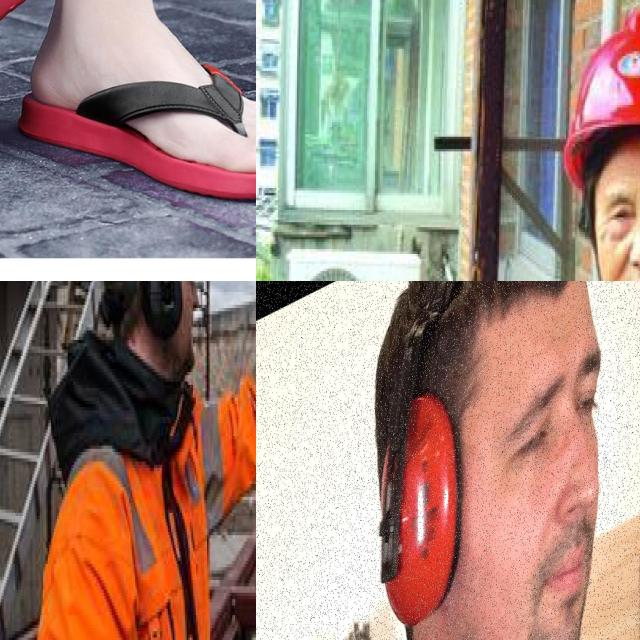Ear-protection: (367, 281, 472, 640)
Sandals: (13, 24, 256, 200)
face_nomask: (588, 153, 640, 281), (152, 281, 211, 369)
head_helmet: (559, 7, 640, 158)
head_nohelmet: (375, 281, 618, 406)
person: (363, 281, 640, 640), (40, 281, 222, 640), (508, 4, 640, 281)
vest: (45, 407, 229, 640)
